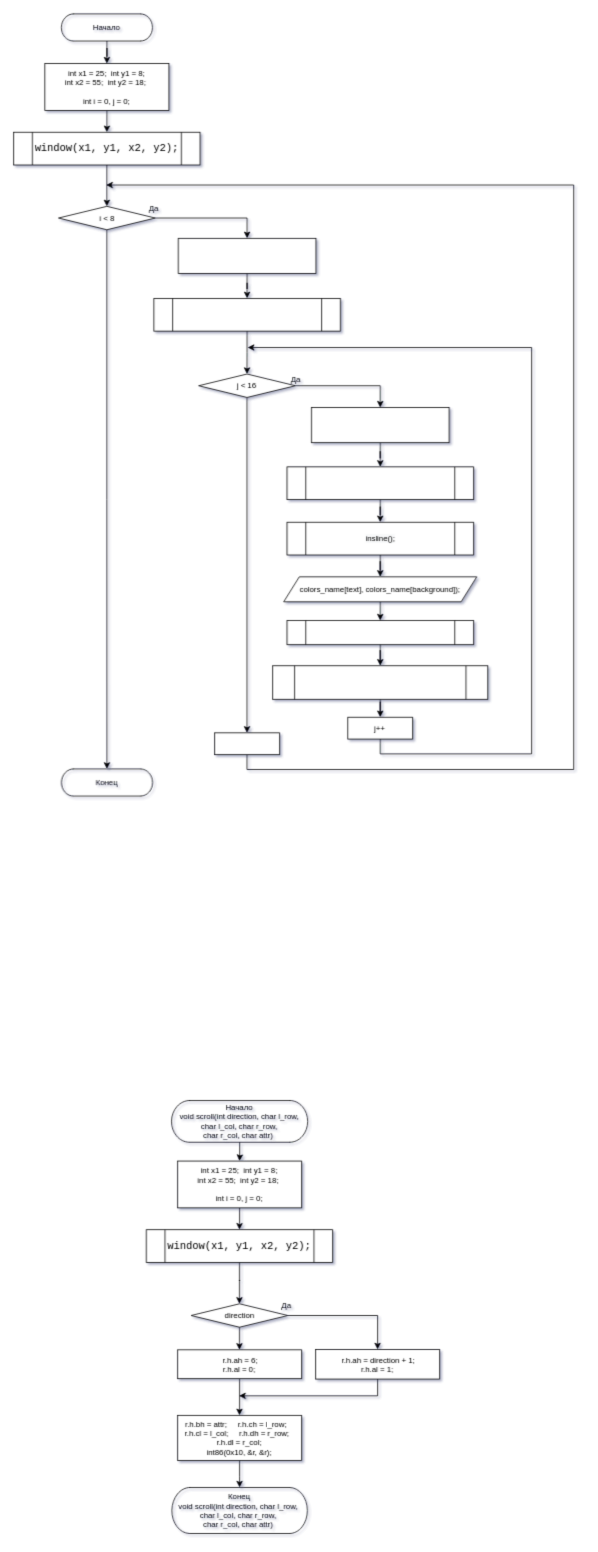
The diagram is 598 pixels wide and 1552 high, and some of its shapes have lost their labels. Each missing label, with the centre of its shape:
background = colors(i);: pixel 246 255
delay(1200): pixel 379 632
i++: pixel 246 743
scroll(DOWN, x1 - 1, y1 - 1, x2 - 1, y2 - 1, background);: pixel 380 682
text = colors(j);: pixel 380 425
textbackground(background);: pixel 246 314
textcolor(text);: pixel 379 483
